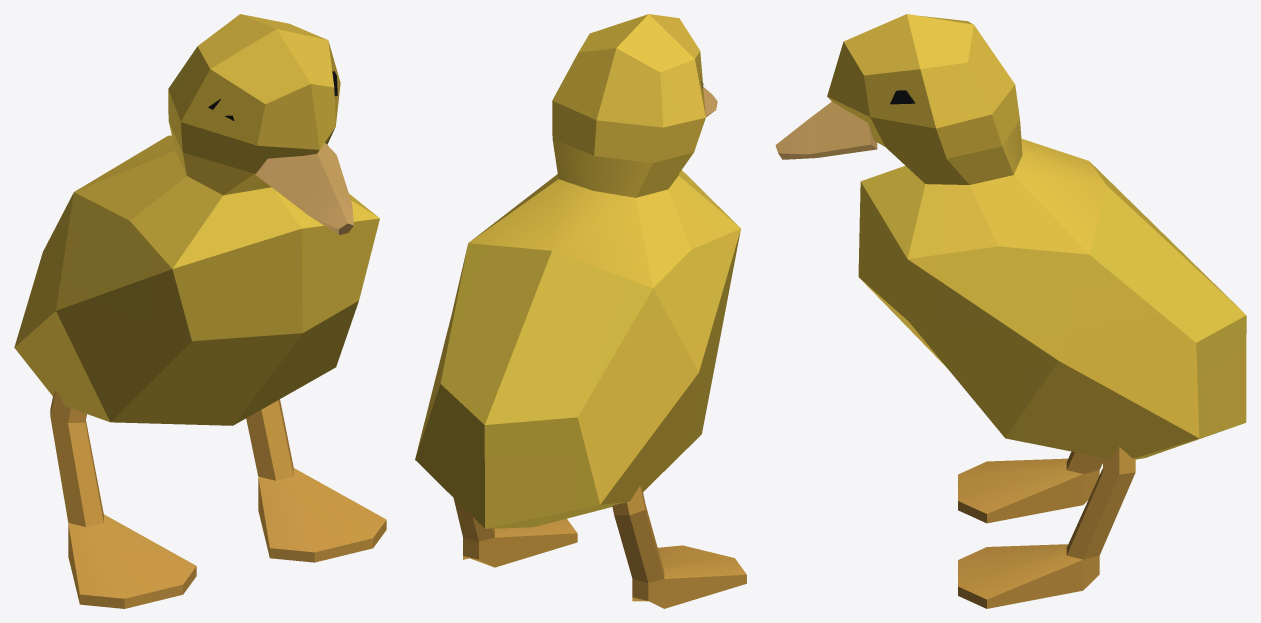
File: duckling.glb
3 renders of one model, left to right at view 1: azimuth 30°, elevation 25°; view 2: azimuth 150°, elevation 25°; view 3: azimuth 270°, elevation 25°, orthographic. The views are drawn at different scales.
Visible parts, largest first — view 1: Geo_Duckling; view 2: Geo_Duckling; view 3: Geo_Duckling.
Boxes of the visible parts, bbox=[...] form: Geo_Duckling: bbox=[14, 14, 386, 608]; Geo_Duckling: bbox=[415, 14, 746, 608]; Geo_Duckling: bbox=[775, 14, 1246, 608].
Bounding box in the file's own units: 45.17 × 80.19 × 65.1.
1 material, 1 textured.
